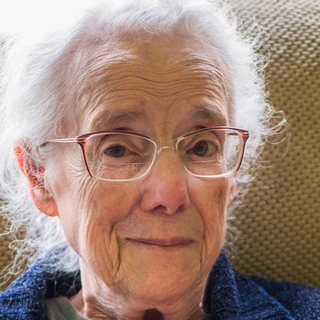eye: (92, 138, 146, 168), (177, 135, 227, 164)
